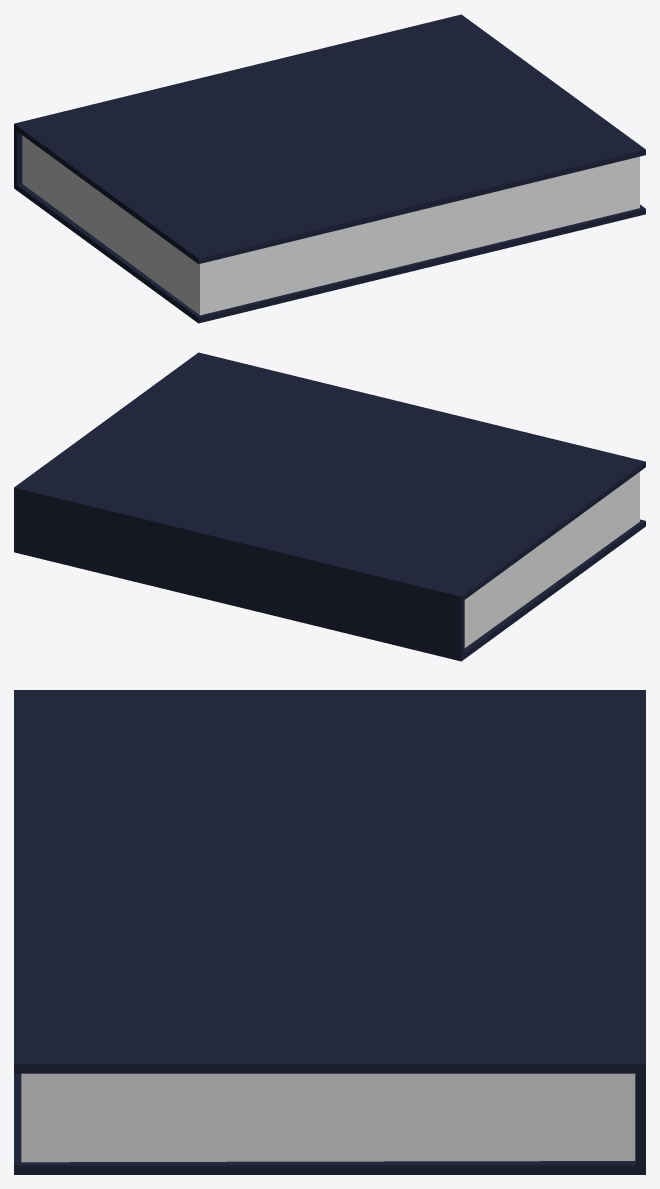
The model's file is ThrowProp_BookMediumBlue.FBX.
3 views of the same model, one above another, from view 1: azimuth 30°, elevation 25°; view 2: azimuth 150°, elevation 25°; view 3: azimuth 270°, elevation 25° (orthographic). The views are drawn at different scales.
Parts seen in each view (by area): view 1: Book_MediumBlue; view 2: Book_MediumBlue; view 3: Book_MediumBlue.
Part boxes in pixels (left/top/right/bottom): Book_MediumBlue: left=14, top=14, right=645, bottom=323; Book_MediumBlue: left=14, top=352, right=645, bottom=661; Book_MediumBlue: left=14, top=690, right=645, bottom=1174.
Bounding box in the file's own units: 19.15 × 2.65 × 13.68.
Materials: 1 (1 with a texture image).
